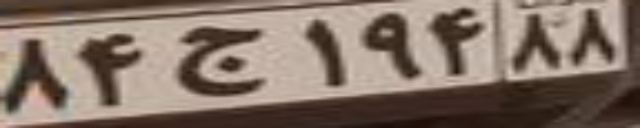1: (297, 17, 350, 88)
4: (75, 33, 143, 106), (429, 8, 488, 77)
8: (1, 36, 66, 111), (507, 13, 562, 72), (569, 8, 614, 66)
9: (360, 12, 414, 78)
jim: (169, 25, 267, 96)
